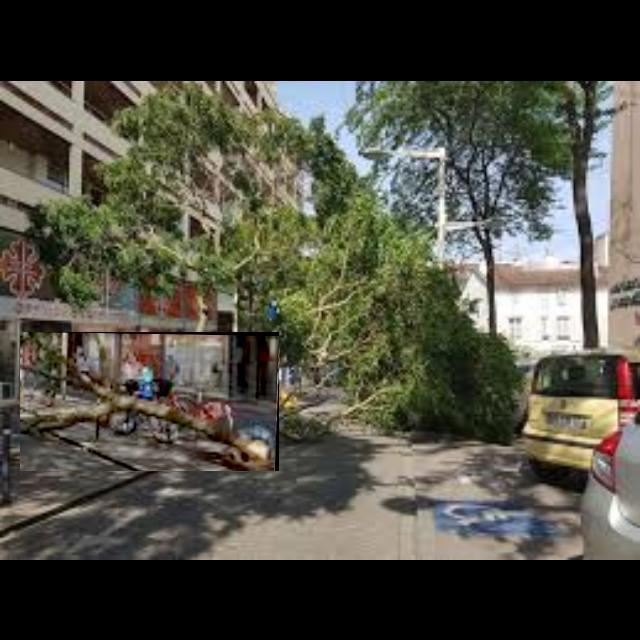fallen_tree: (20, 332, 280, 472)
